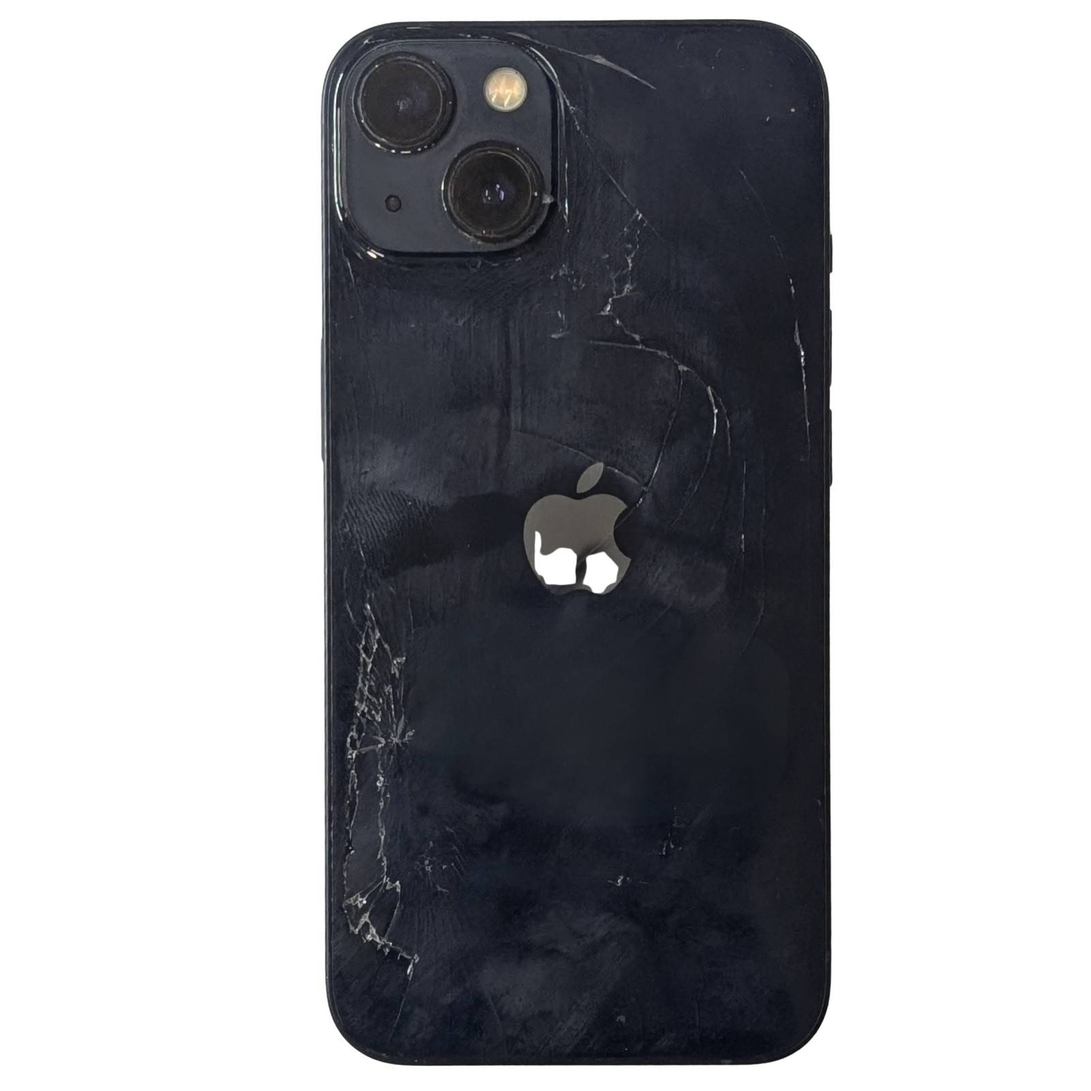crack_phone: (250, 11, 886, 1091)
